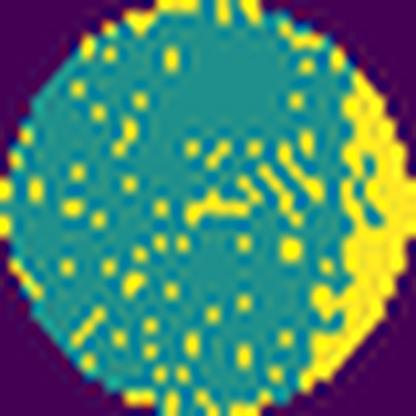Edge-Loc: (299, 69, 416, 394)
